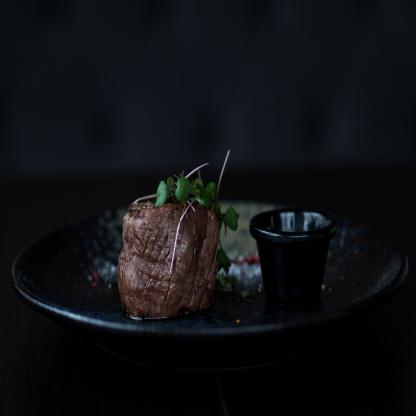Carne: (113, 184, 227, 323)
